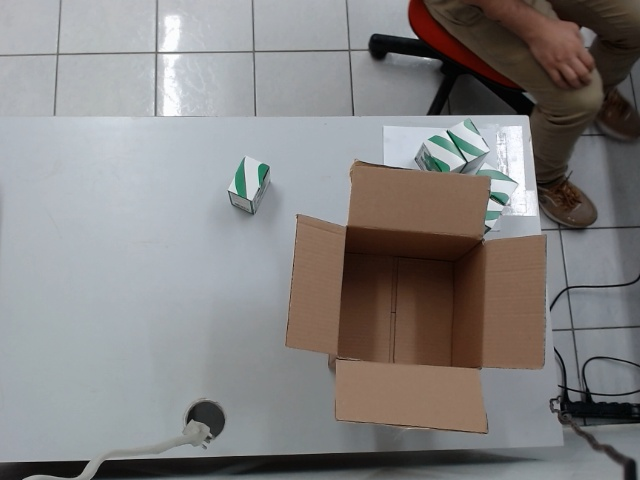caixa_principal: (325, 219, 496, 375)
